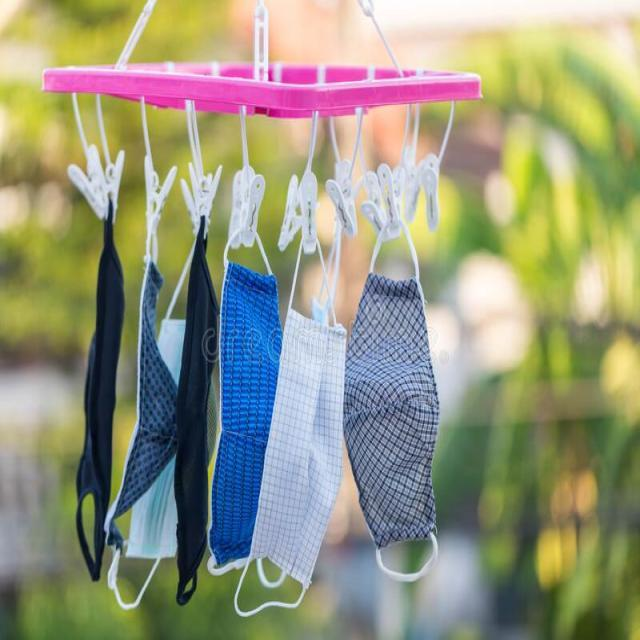clothes: (340, 252, 450, 548), (259, 298, 349, 596), (216, 266, 292, 573), (70, 188, 122, 610), (169, 227, 227, 589), (116, 234, 172, 584)
